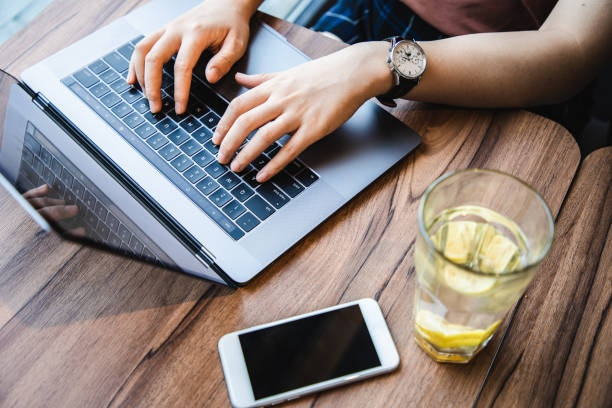keyboard: (60, 34, 321, 241)
phone: (218, 297, 401, 408)
